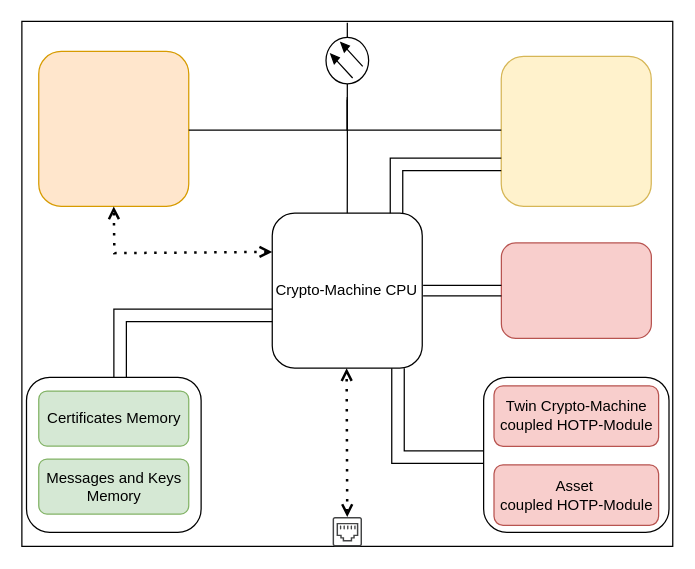
Some shapes in this 695 by 569 pixel diagram are drawn without their labels. Each missing label, with the centre of its shape:
"AES-256-GCM Module" goes at [575,290].
"PQC Module" goes at [575,130].
"QKD Node" goes at [113,128].
